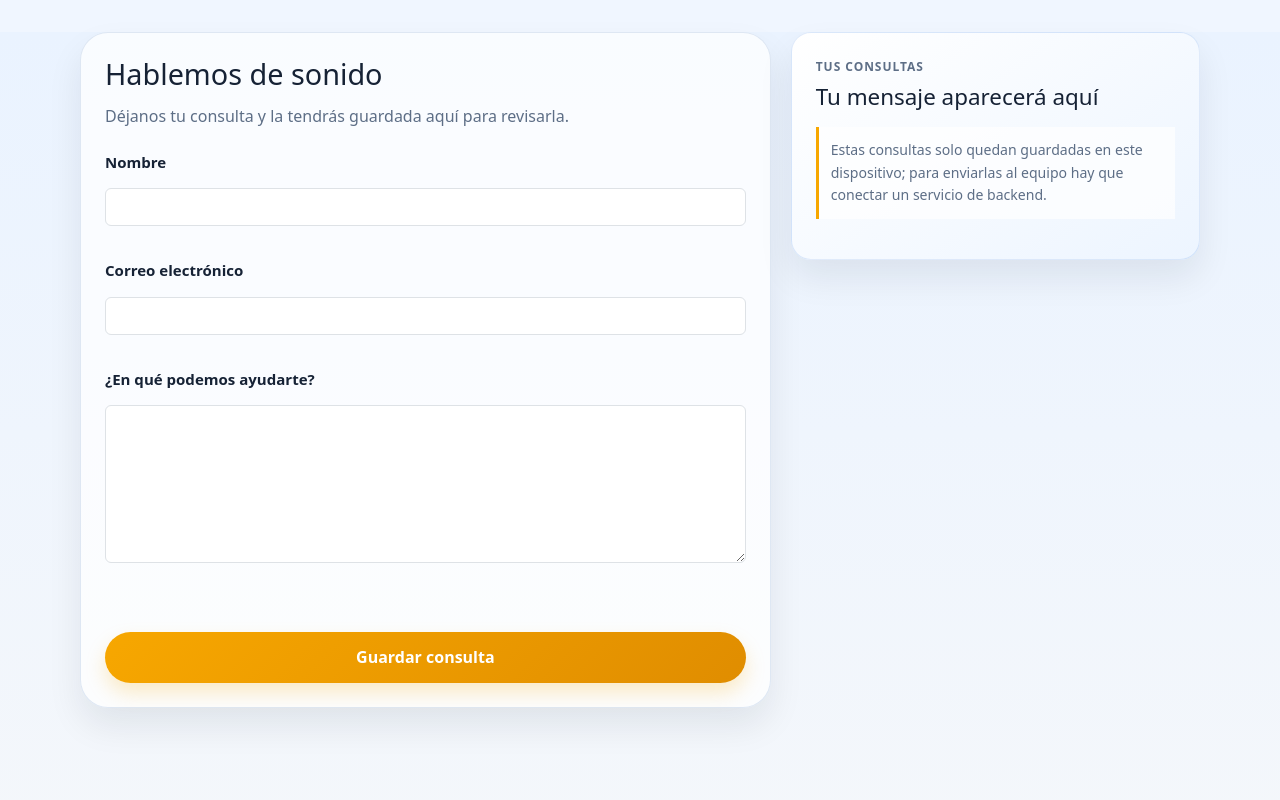
Test: 4. responde al envío con datos inválidos
This screenshot has width=1280, height=800.
Click the button "Guardar consulta" at (425, 658), box [105,632,746,683]
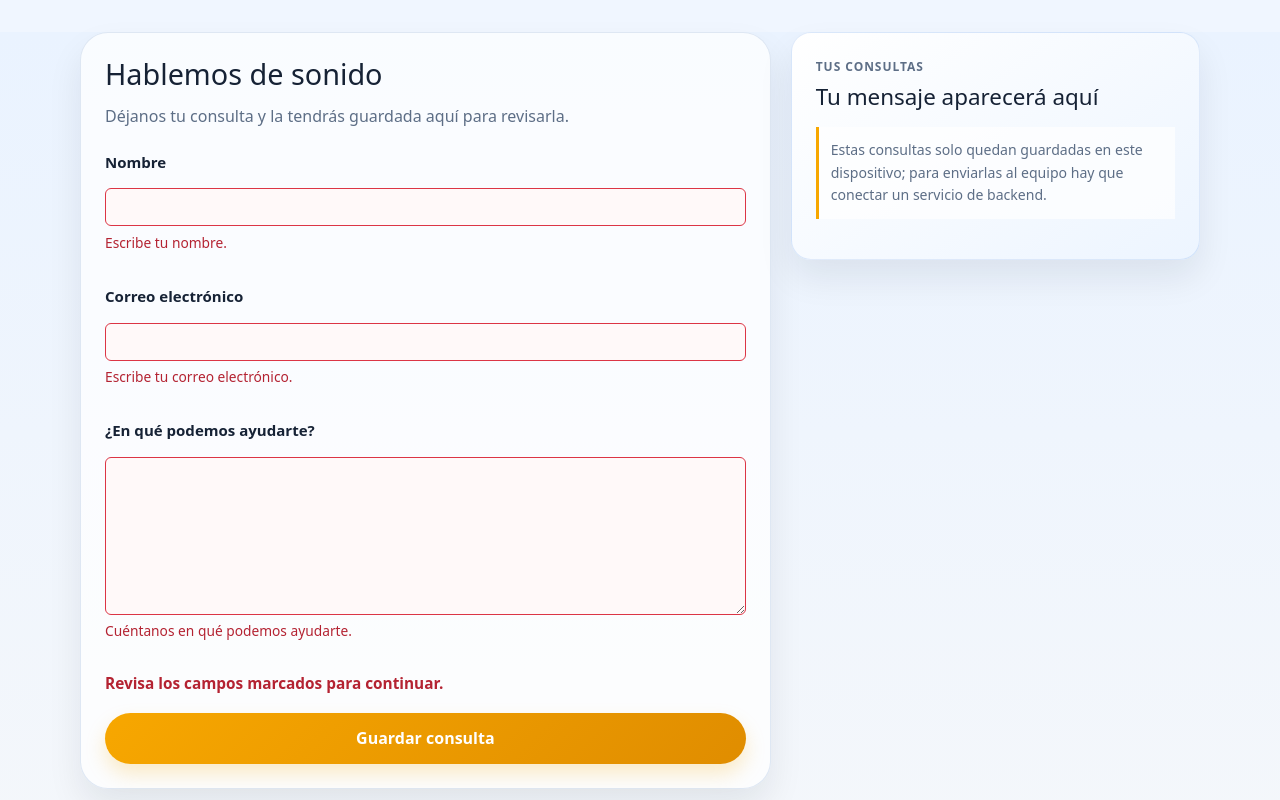
Check: the text "Revisa los campos marcados para continuar." is shown, box [105,673,443,694]
